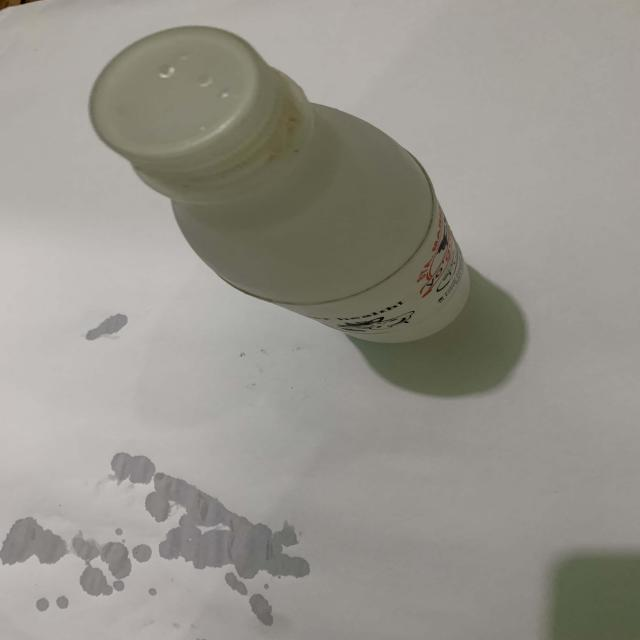bottle: (69, 7, 477, 372)
